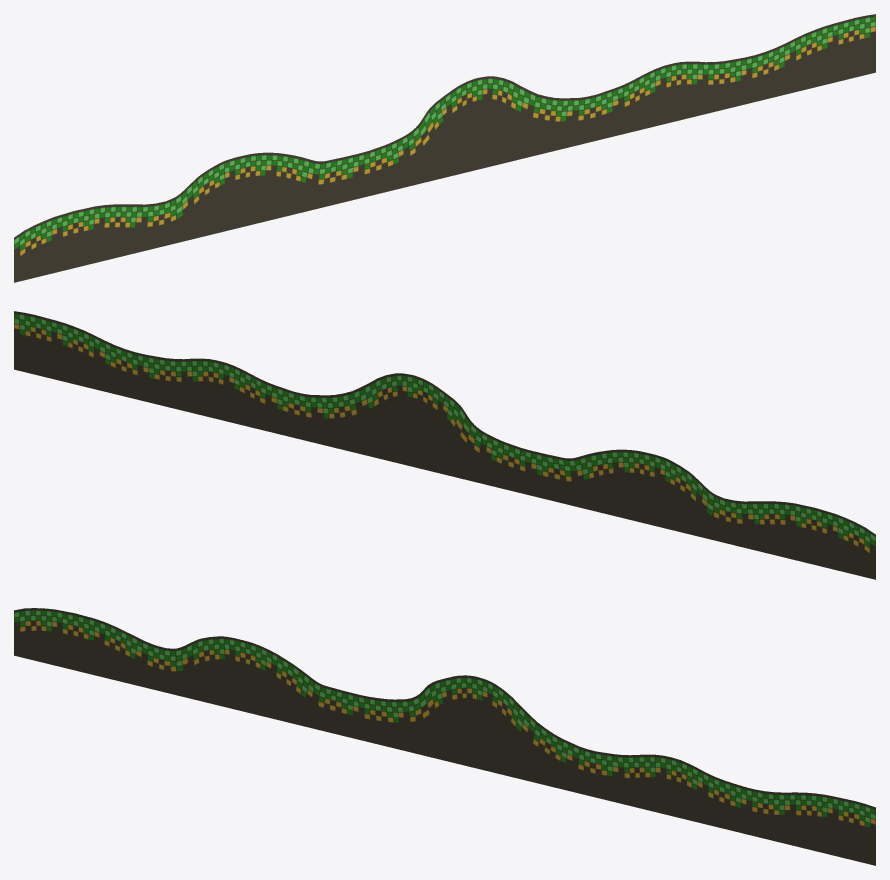
File: APPirateGame_Ground.FBX
The picture shows the model from 3 angles, top to bottom: view 1: azimuth 30°, elevation 25°; view 2: azimuth 150°, elevation 25°; view 3: azimuth 330°, elevation 25°; orthographic projection.
Parts seen in each view (by area): view 1: Ground; view 2: Ground; view 3: Ground.
Boxes of the visible parts, x1,y1,x2,y2 form: Ground: (14,14,875,282); Ground: (14,311,875,579); Ground: (14,608,875,865).
Size of the model in its own units: 800 by 5.98e-06 by 81.4.
